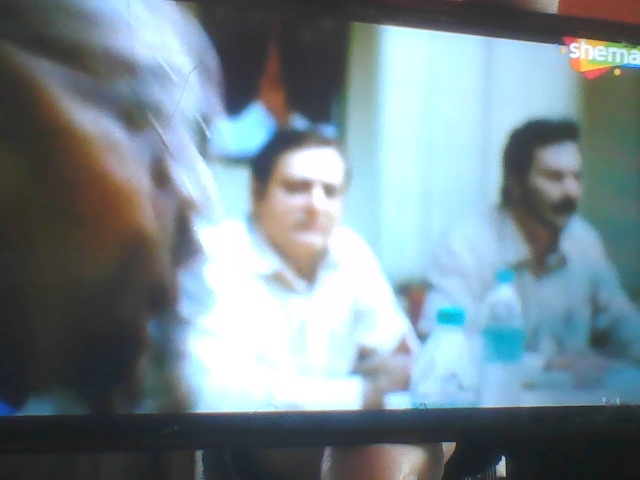fake: (249, 115, 353, 262)
